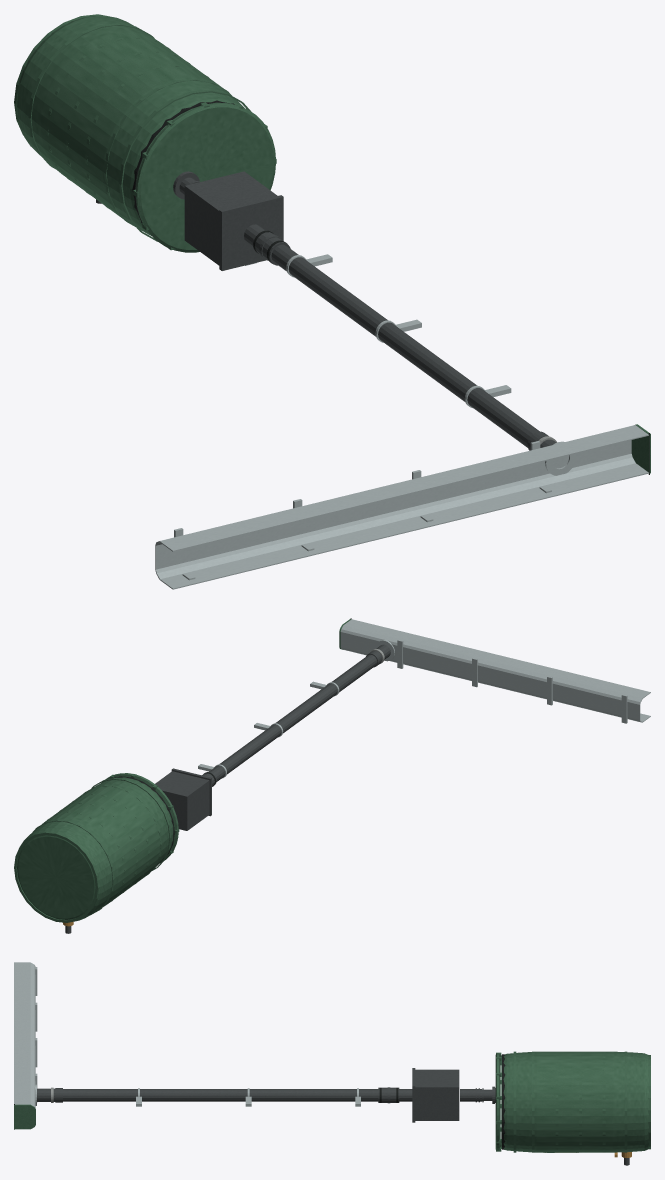
File: PZ_Rainwater_Installed_Example.glb
3 views of the same model, one above another, from view 1: azimuth 30°, elevation 25°; view 2: azimuth 150°, elevation 25°; view 3: azimuth 270°, elevation 25° (orthographic). The views are drawn at different scales.
Parts seen in each view (by area): view 1: Installed_01_Gutter_Straight_2m__Corrugated_Seamless_Gutter_, Installed_08_Barrel_200L__Moulded_200L_Tank_Body, Installed_08_Barrel_200L__Removable_Screw_Lid, Installed_04_Downspout_2m__Pipe_Body_75mm, Installed_06_Leaf_Filter_Inline__Filter_Housing_Shell, Installed_06_Leaf_Filter_Inline__Removable_Filter_Cover, Installed_08_Barrel_200L__Moulded_Stiffening_Rib_06; view 2: Installed_08_Barrel_200L__Moulded_200L_Tank_Body, Installed_01_Gutter_Straight_2m__Corrugated_Seamless_Gutter_, Installed_04_Downspout_2m__Pipe_Body_75mm, Installed_06_Leaf_Filter_Inline__Filter_Housing_Shell, Installed_08_Barrel_200L__Base_Reinforcement_Ring, Installed_08_Barrel_200L__Removable_Screw_Lid; view 3: Installed_08_Barrel_200L__Moulded_200L_Tank_Body, Installed_04_Downspout_2m__Pipe_Body_75mm, Installed_01_Gutter_Straight_2m__Corrugated_Seamless_Gutter_, Installed_06_Leaf_Filter_Inline__Filter_Housing_Shell, Installed_02_Gutter_EndCap__Gutter_End_Cover, Installed_08_Barrel_200L__Removable_Screw_Lid, Installed_08_Barrel_200L__Moulded_Stiffening_Rib_01, Installed_08_Barrel_200L__Moulded_Stiffening_Rib_06.
Boxes of the visible parts, x1,y1,x2,y2 form: Installed_01_Gutter_Straight_2m__Corrugated_Seamless_Gutter_: (155,425,648,589); Installed_08_Barrel_200L__Moulded_200L_Tank_Body: (16,16,244,235); Installed_08_Barrel_200L__Removable_Screw_Lid: (136,102,275,252); Installed_04_Downspout_2m__Pipe_Body_75mm: (271,244,539,447); Installed_06_Leaf_Filter_Inline__Filter_Housing_Shell: (184,171,277,265); Installed_06_Leaf_Filter_Inline__Removable_Filter_Cover: (219,195,283,270); Installed_08_Barrel_200L__Moulded_Stiffening_Rib_06: (119,89,251,241); Installed_08_Barrel_200L__Moulded_200L_Tank_Body: (17,777,173,920); Installed_01_Gutter_Straight_2m__Corrugated_Seamless_Gutter_: (340,619,650,722); Installed_04_Downspout_2m__Pipe_Body_75mm: (209,654,377,781); Installed_06_Leaf_Filter_Inline__Filter_Housing_Shell: (155,771,209,830); Installed_08_Barrel_200L__Base_Reinforcement_Ring: (14,831,99,922); Installed_08_Barrel_200L__Removable_Screw_Lid: (101,773,178,862); Installed_08_Barrel_200L__Moulded_200L_Tank_Body: (501,1051,648,1152); Installed_04_Downspout_2m__Pipe_Body_75mm: (63,1089,378,1101); Installed_01_Gutter_Straight_2m__Corrugated_Seamless_Gutter_: (14,962,35,1107); Installed_06_Leaf_Filter_Inline__Filter_Housing_Shell: (415,1069,459,1120); Installed_02_Gutter_EndCap__Gutter_End_Cover: (14,1104,35,1129); Installed_08_Barrel_200L__Removable_Screw_Lid: (495,1053,500,1150); Installed_08_Barrel_200L__Moulded_Stiffening_Rib_01: (624,1051,627,1152); Installed_08_Barrel_200L__Moulded_Stiffening_Rib_06: (513,1051,516,1152).
Size of the model in its own units: 2.1 by 0.7085 by 3.78.
8 materials, 8 textured.
